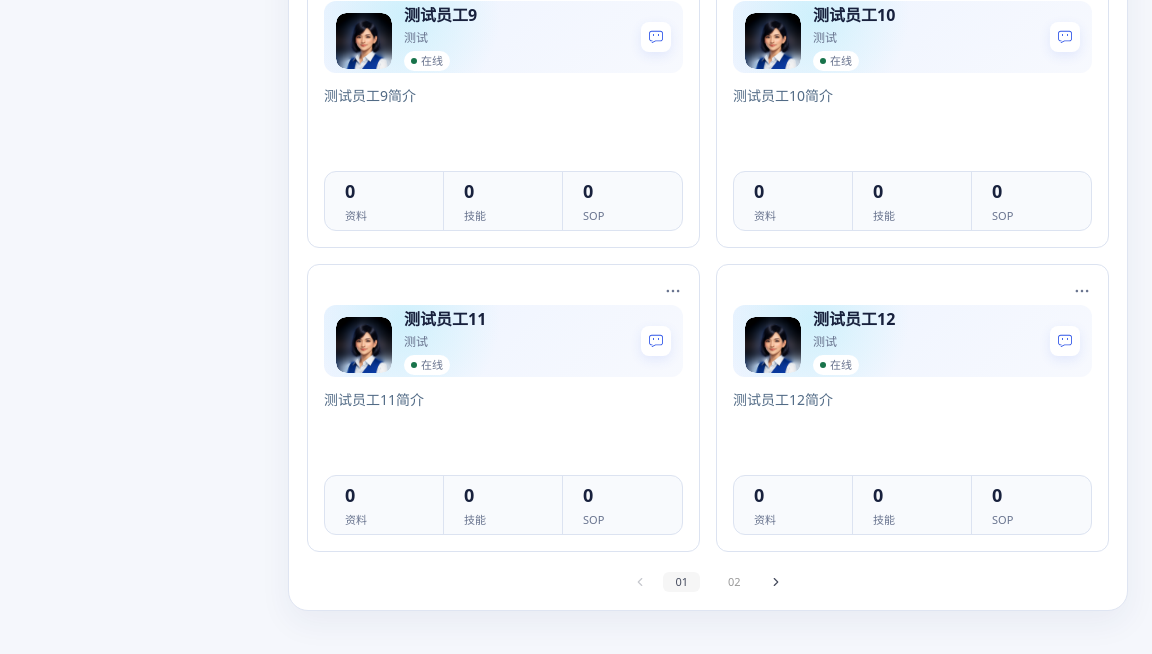
Test: 通过分页控件请求第二页数字员工
(page scrolled)
Click the button named "下一页" at (776, 582), box x1=769 y1=575 x2=783 y2=589
(page scrolled)
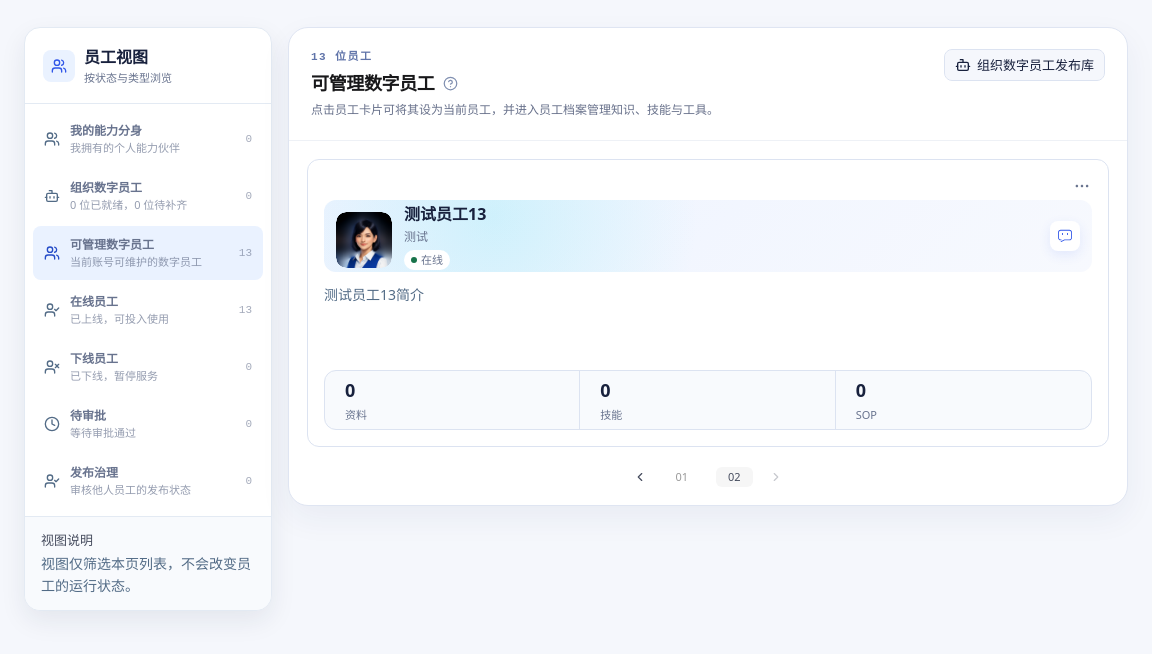
Now the text "测试员工13" is shown, box x1=404 y1=203 x2=486 y2=225
